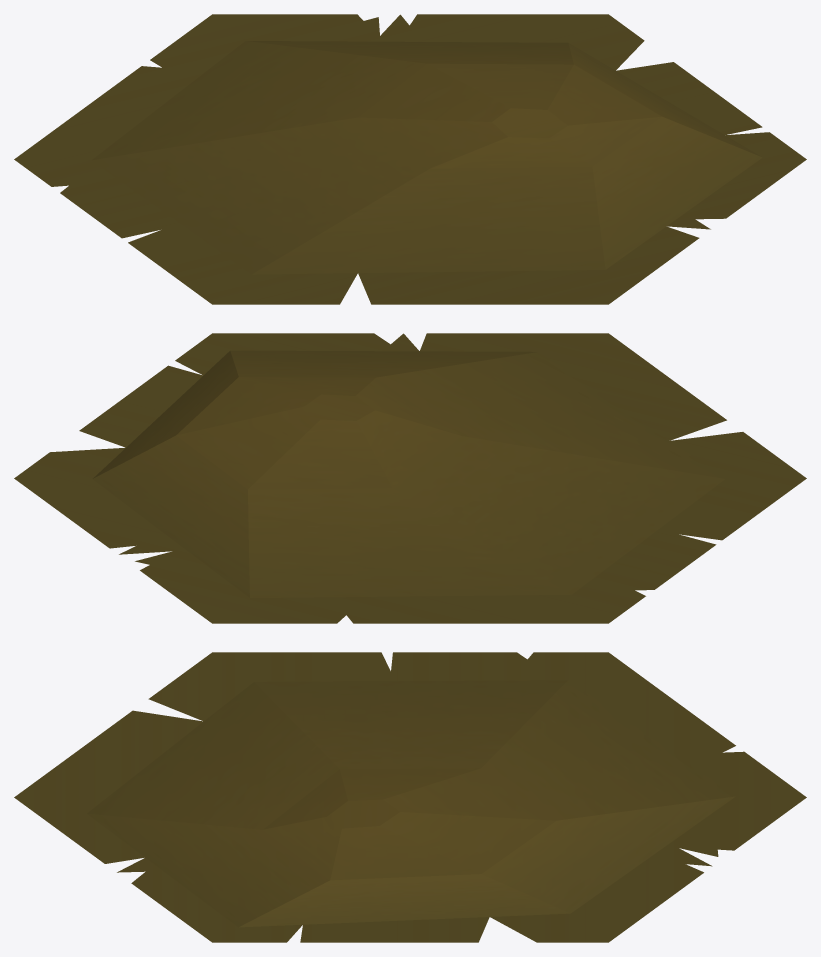
File: grass-brown-plain.glb
3 views of the same model, one above another, from view 1: azimuth 30°, elevation 25°; view 2: azimuth 150°, elevation 25°; view 3: azimuth 270°, elevation 25° (orthographic).
Visible parts, largest first — view 1: plane; view 2: plane; view 3: plane.
Boxes of the visible parts, left/top/right/bottom form: plane: left=14, top=14, right=806, bottom=304; plane: left=14, top=333, right=806, bottom=623; plane: left=14, top=652, right=806, bottom=942.
Bounding box in the file's own units: 1.73 × 0.0889 × 2.
Materials: 1 (1 with a texture image).
